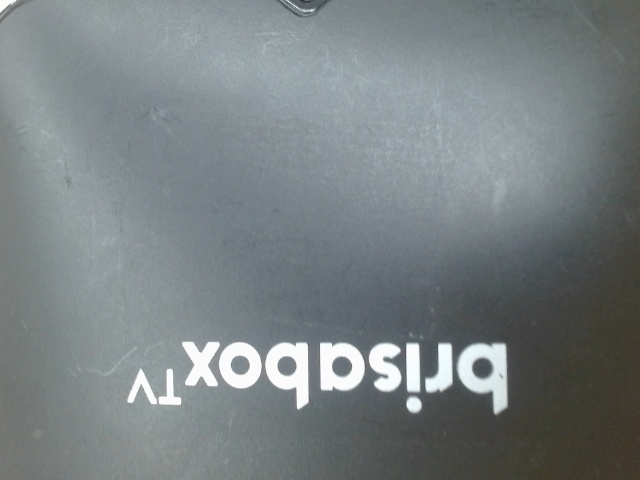AH_brisabox: (106, 312, 521, 425)
